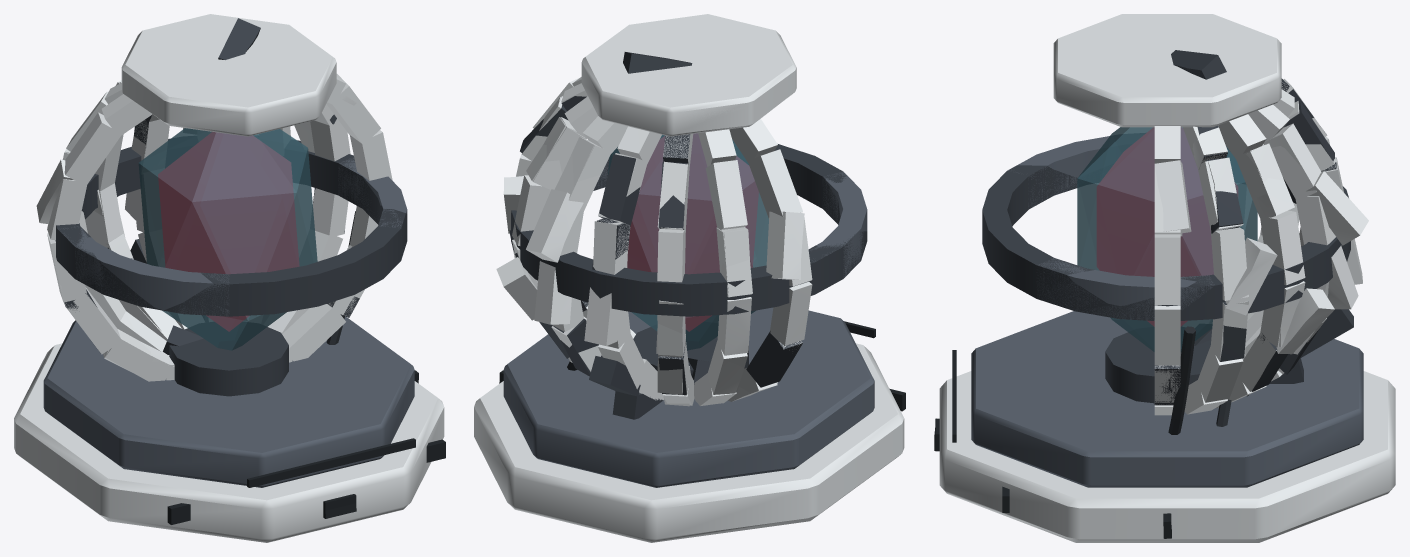
The model's file is hlx_cmp_ai_core_a.glb.
3 renders of one model, left to right at view 1: azimuth 30°, elevation 25°; view 2: azimuth 150°, elevation 25°; view 3: azimuth 270°, elevation 25°, orthographic. The views are drawn at different scales.
Parts seen in each view (by area): view 1: mesh_heavy, mesh_intact, mesh_light; view 2: mesh_heavy, mesh_intact, mesh_light; view 3: mesh_heavy, mesh_intact, mesh_light.
Part boxes in pixels (box(x1,y1,x2,y2)): mesh_heavy: box(14, 14, 445, 542); mesh_intact: box(47, 14, 407, 518); mesh_light: box(47, 74, 418, 381); mesh_heavy: box(474, 14, 905, 542); mesh_intact: box(509, 25, 867, 405); mesh_light: box(499, 71, 812, 406); mesh_heavy: box(934, 14, 1395, 542); mesh_intact: box(935, 14, 1336, 451); mesh_light: box(1154, 79, 1343, 538).
Bounding box in the file's own units: 0.5812 × 0.626 × 0.6212.
